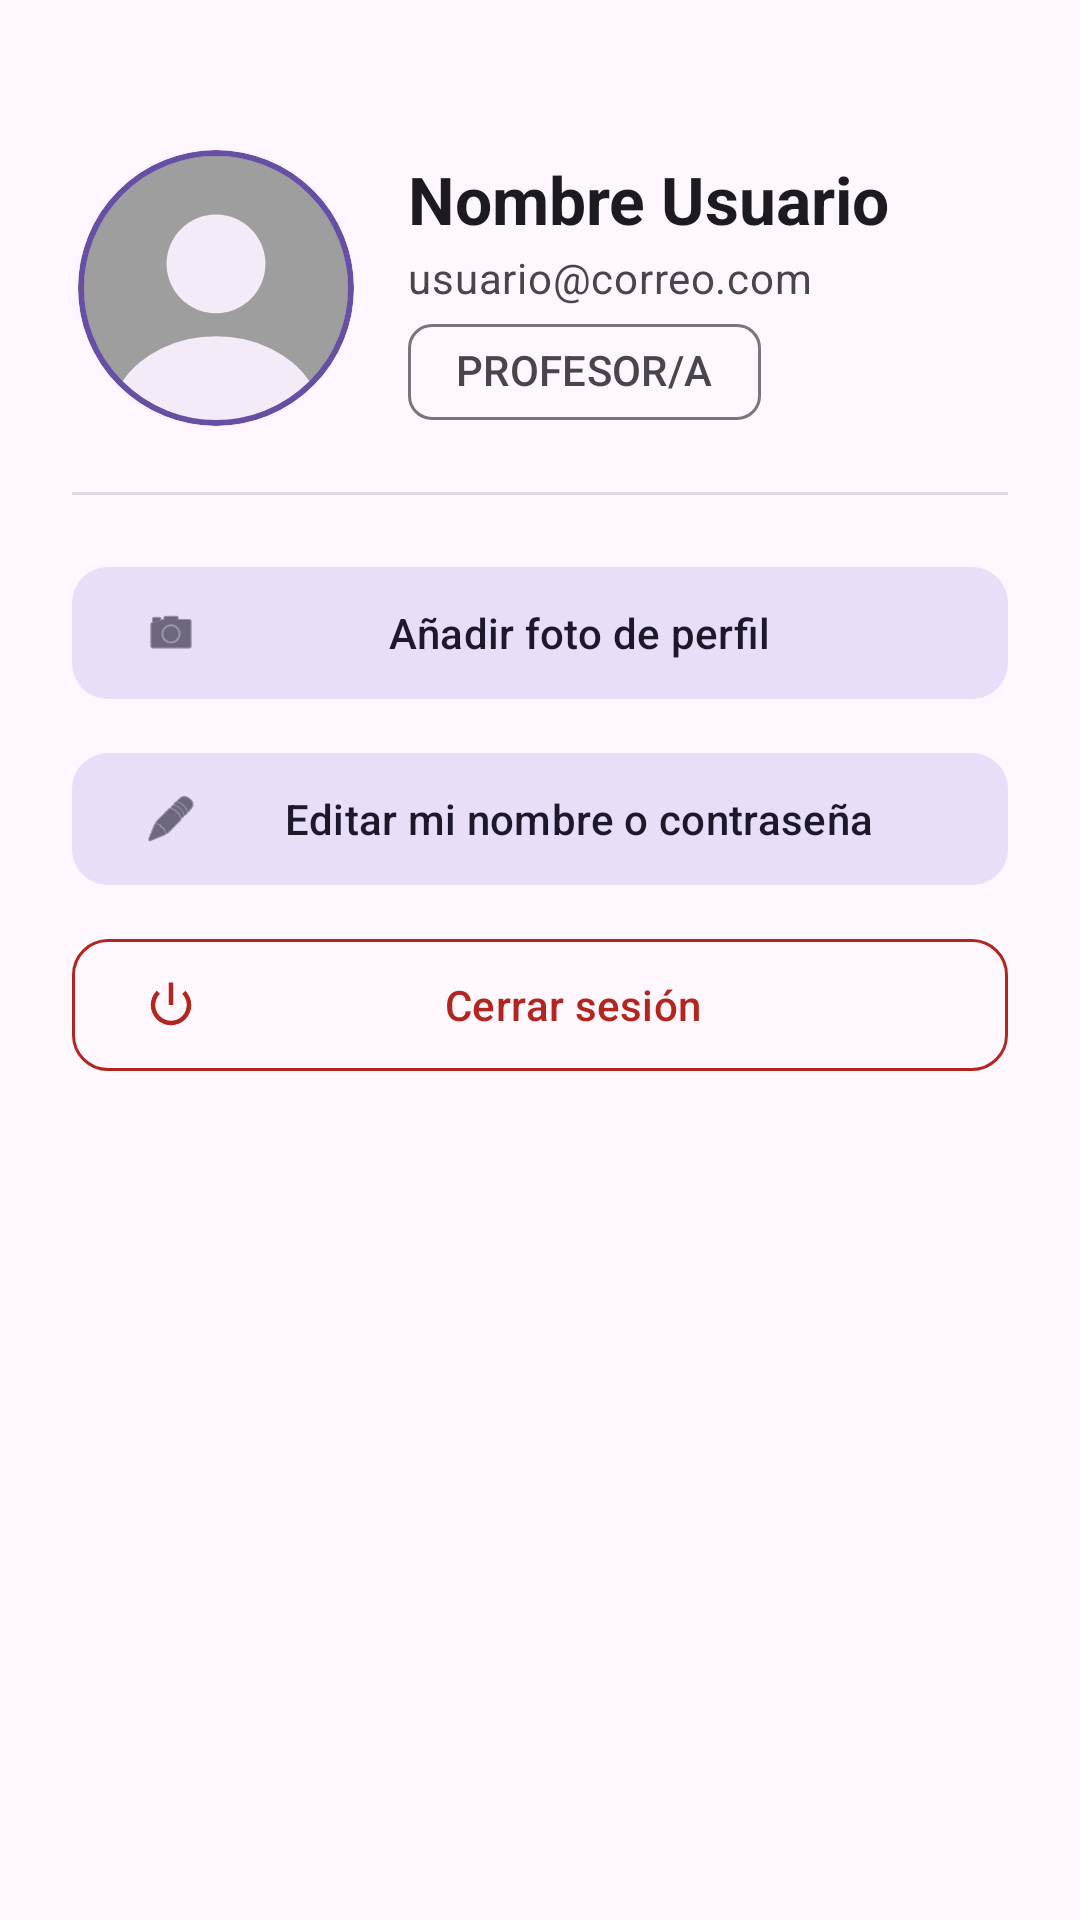

Named icons in this screenshot (1080 × 1920) and their centers, [x,y]:
Foto o avatar de perfil: [216,288]
